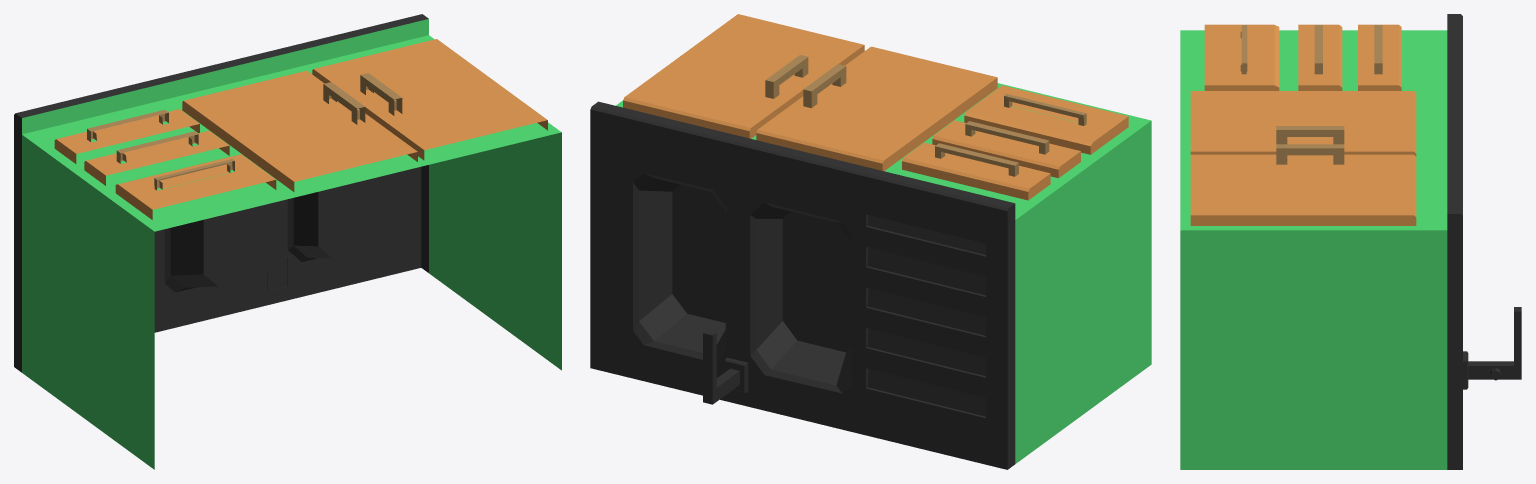
Rendered from propsMaison_evier.fbx.
The picture shows the model from 3 angles, left to right: view 1: azimuth 30°, elevation 25°; view 2: azimuth 150°, elevation 25°; view 3: azimuth 270°, elevation 25°; orthographic projection. The views are drawn at different scales.
Parts seen in each view (by area): view 1: evier; view 2: evier; view 3: evier.
Boxes of the visible parts, <box> form: evier: <box>14,14,561,469</box>; evier: <box>590,14,1151,469</box>; evier: <box>1180,14,1521,469</box>.
Bounding box in the file's own units: 695 × 433 × 502.
